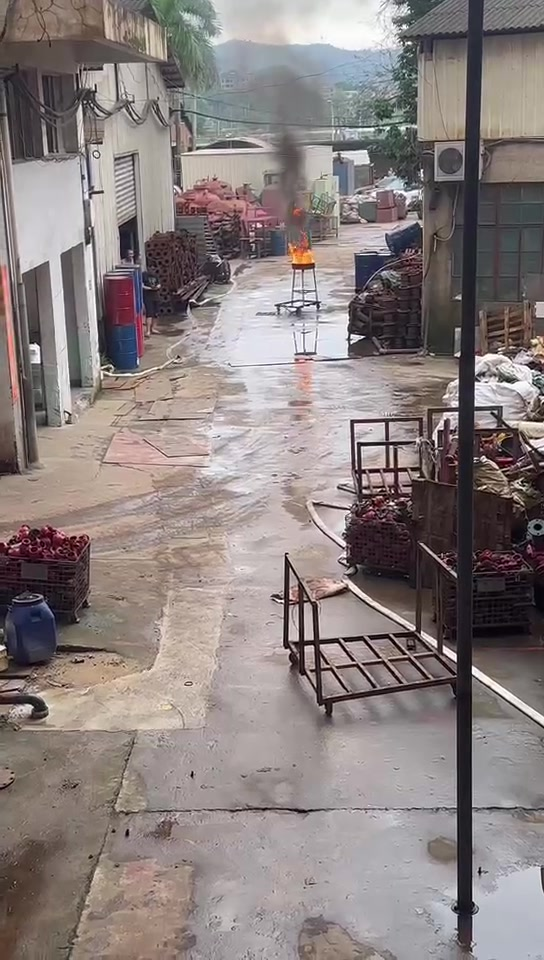fire: (286, 229, 313, 263)
